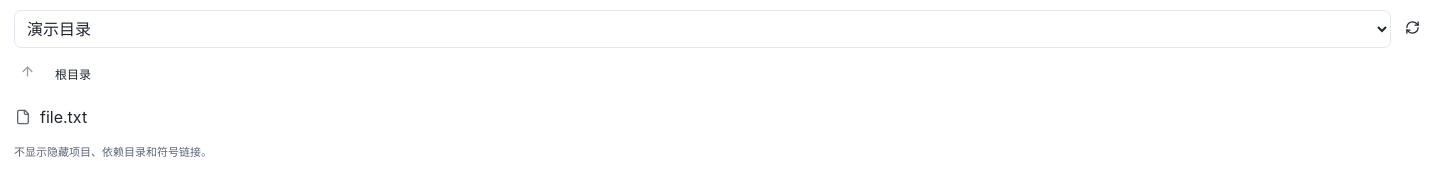
refresh removes revoked workspace results and errors can retry
Expected: the text "file.txt" is shown, [40, 107, 87, 127]
Click the button named "刷新文件列表" at (1412, 29), box [1399, 13, 1426, 45]
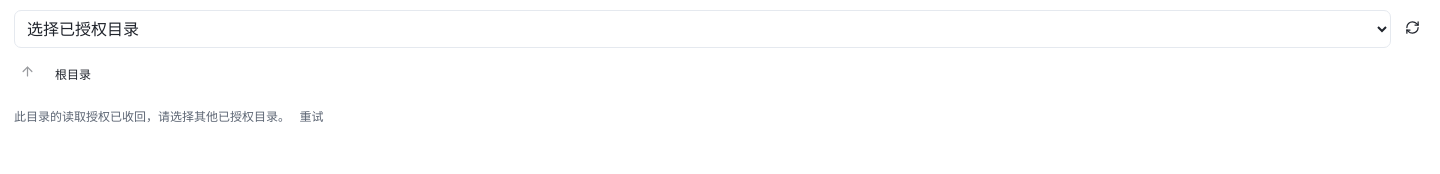
Expected: the message "此目录的读取授权已收回，请选择其他已授权目录。 重试" is shown, [14, 106, 329, 127]
Expected: the button "file.txt" is gone
Click the button "重试" at (311, 117), box [293, 106, 329, 127]
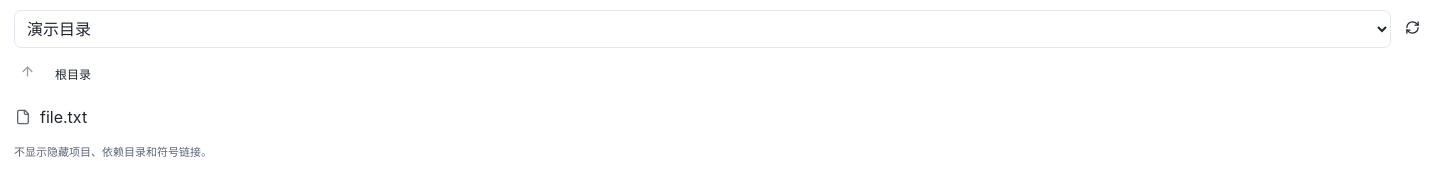
Expected: the text "file.txt" is shown, [40, 107, 87, 127]
